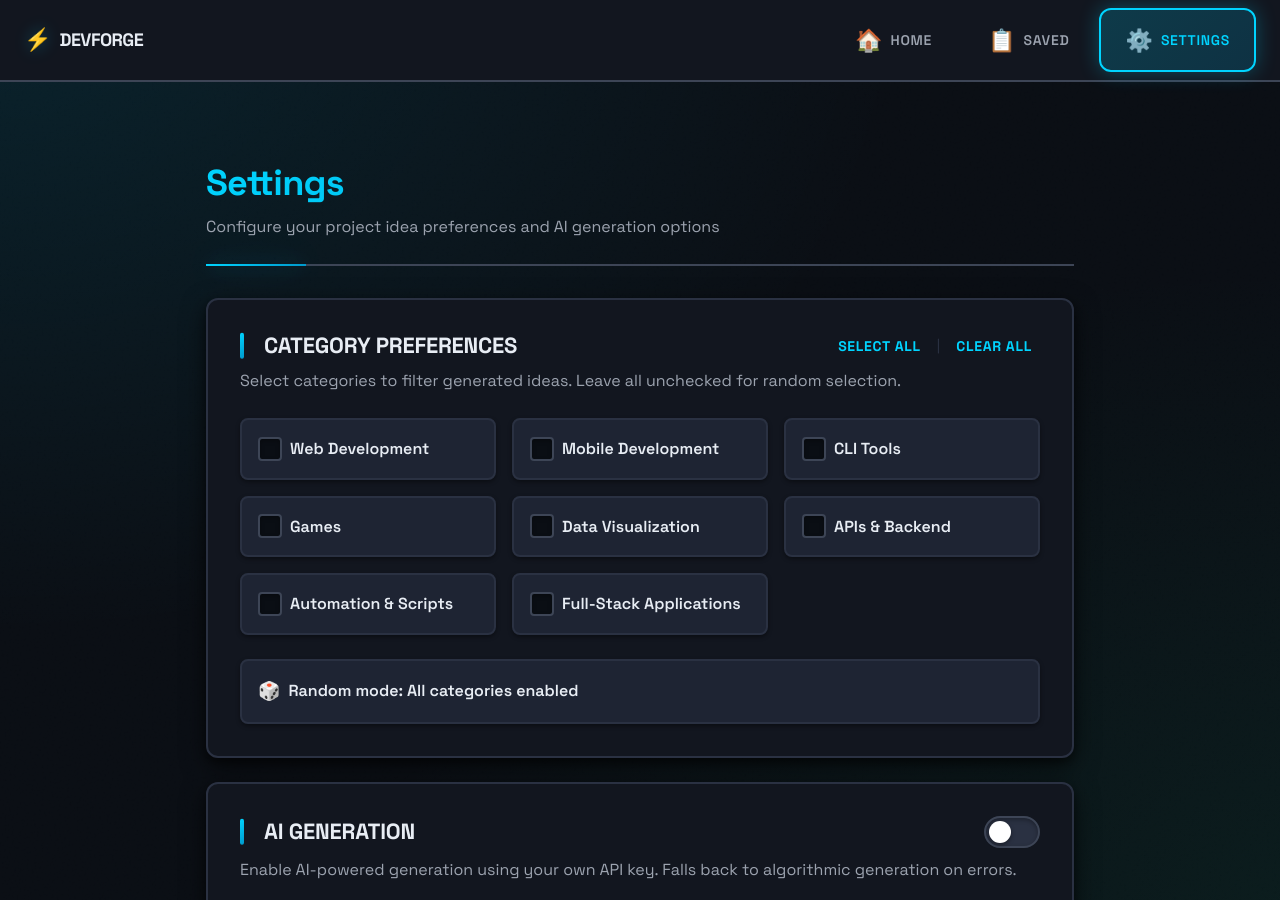
App Integration Tests › connects event handlers correctly
Expected: the text "DevForge" is shown, x1=60 y1=26 x2=143 y2=54
Note: Test navigation event handler
Click the button with aria-label "Navigate to saved ideas".
click(1029, 40)  # box x1=962 y1=8 x2=1095 y2=72
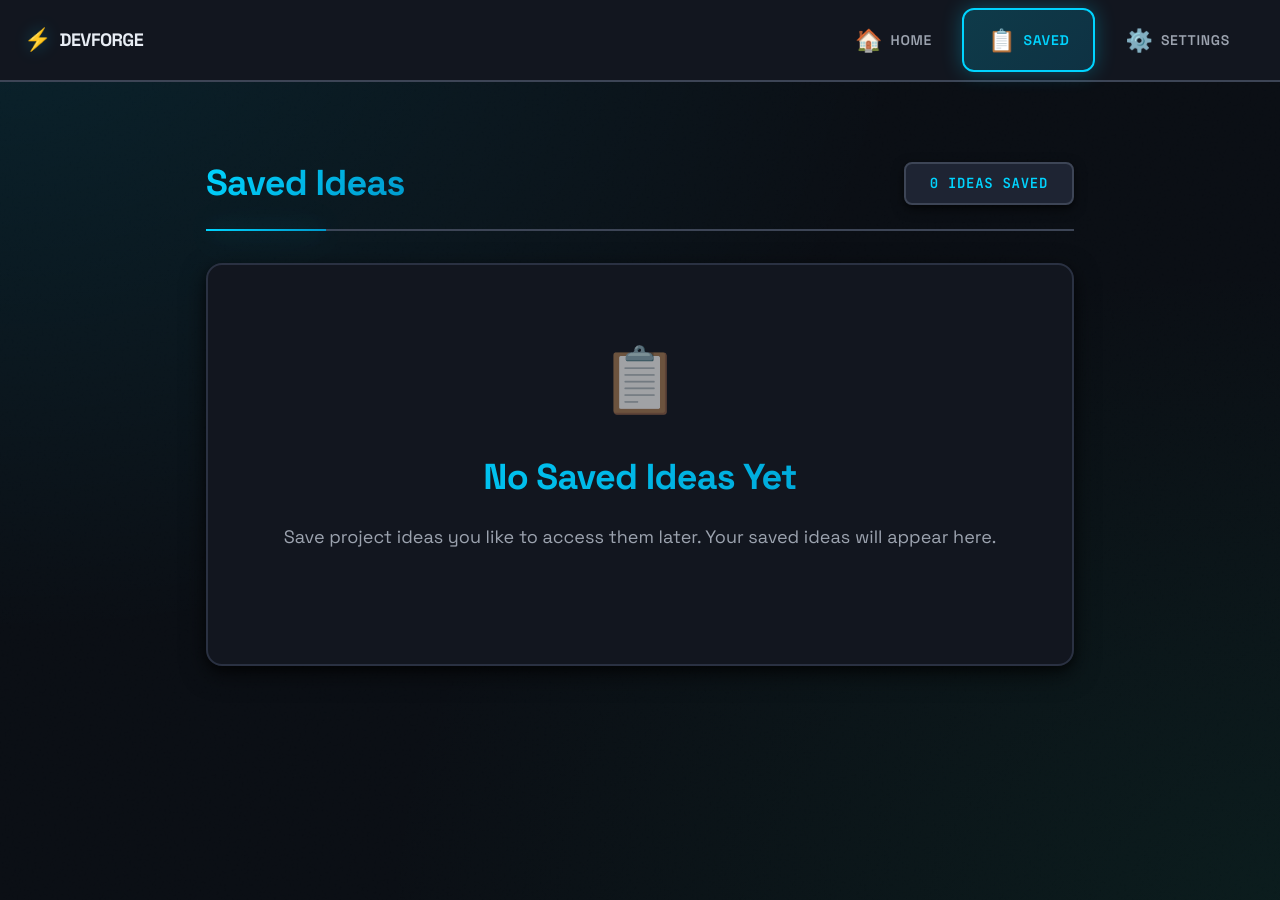
Expected: the heading "Saved Ideas" is shown, x1=206 y1=162 x2=405 y2=205
